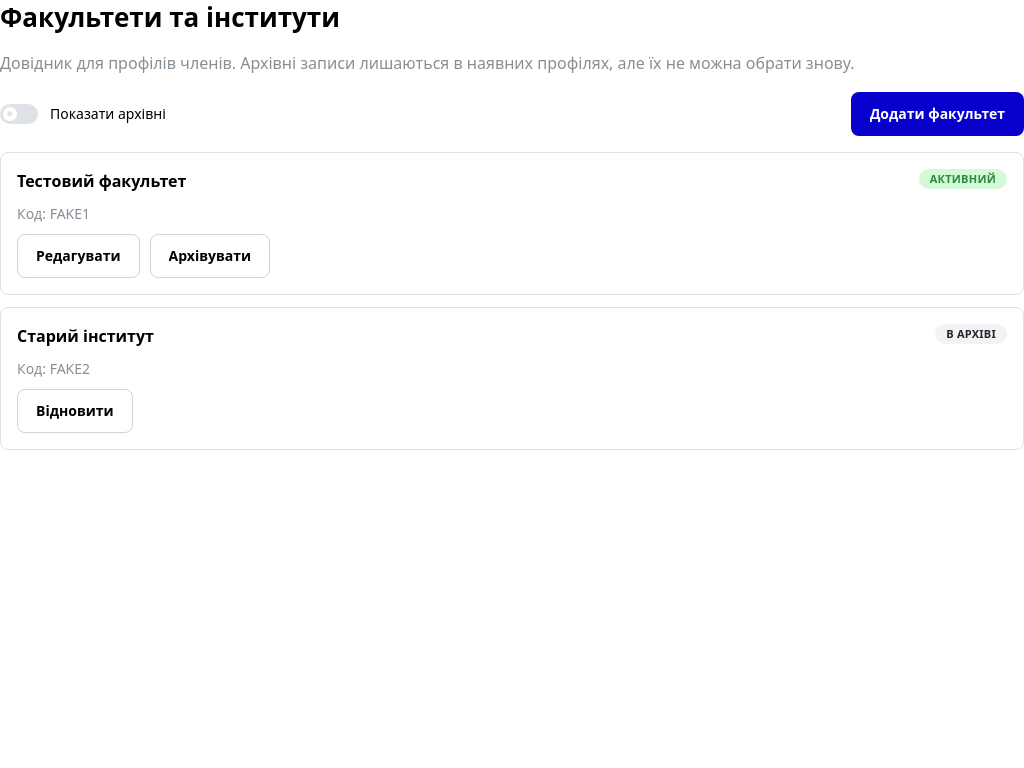
Test: create form › shows server validation errors per field
Click the button "Додати факультет". click: click(937, 114)
box: [851, 92, 1023, 136]
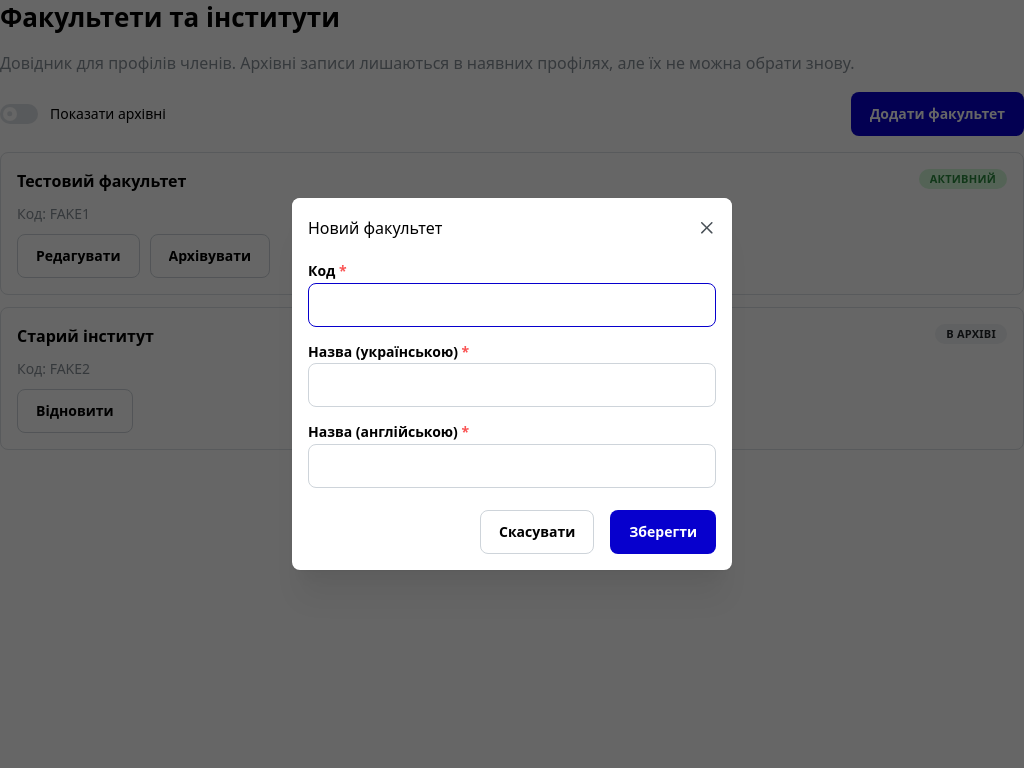
Type "NEW1" into the field labelled "Код *". click: (512, 305)
box: [308, 283, 716, 327]
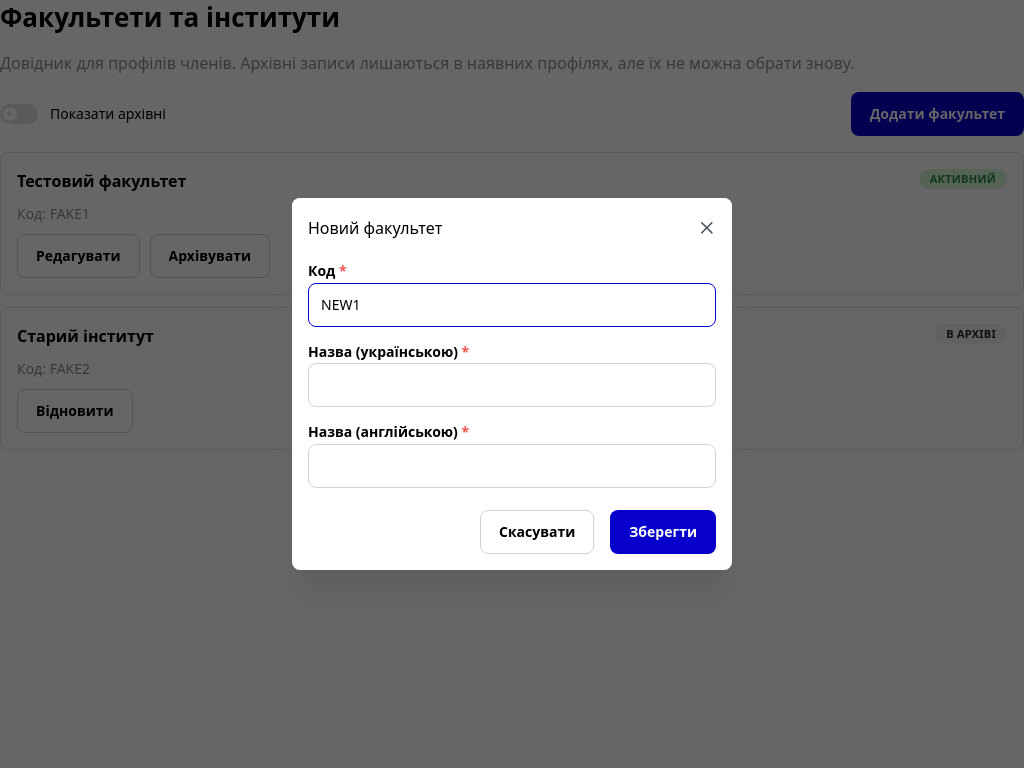
Type "Новий" into the field labelled "Назва (українською) *". click: (512, 385)
box: [308, 363, 716, 407]
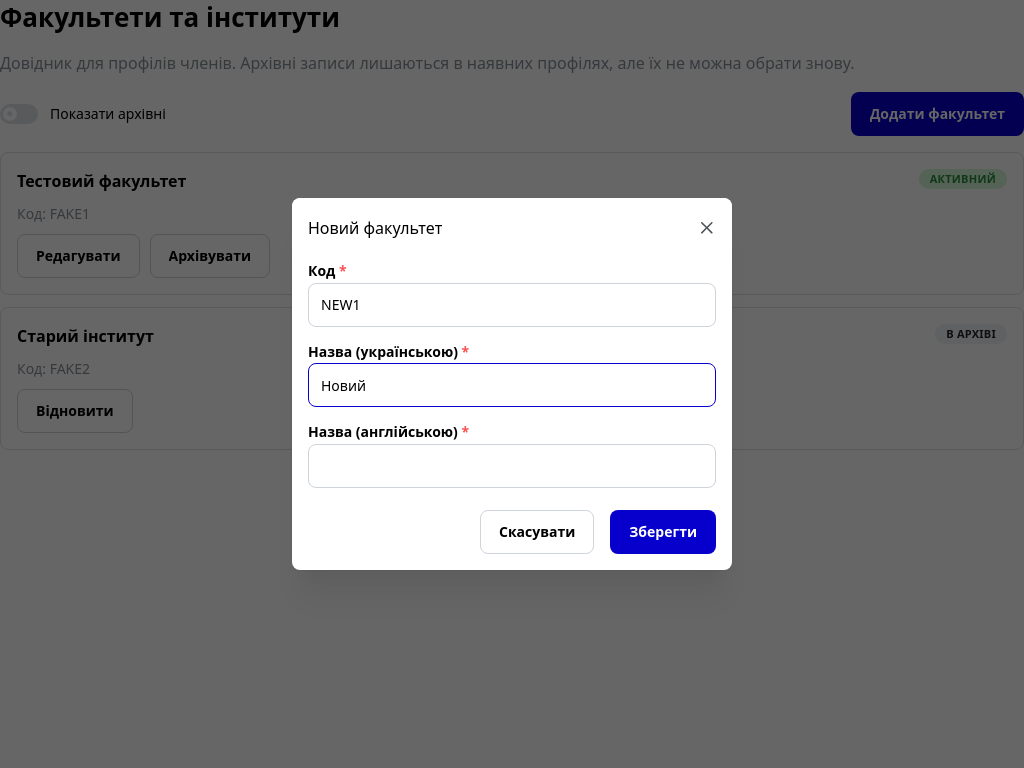
Type "New" into the field labelled "Назва (англійською) *". click: (512, 466)
box: [308, 444, 716, 488]
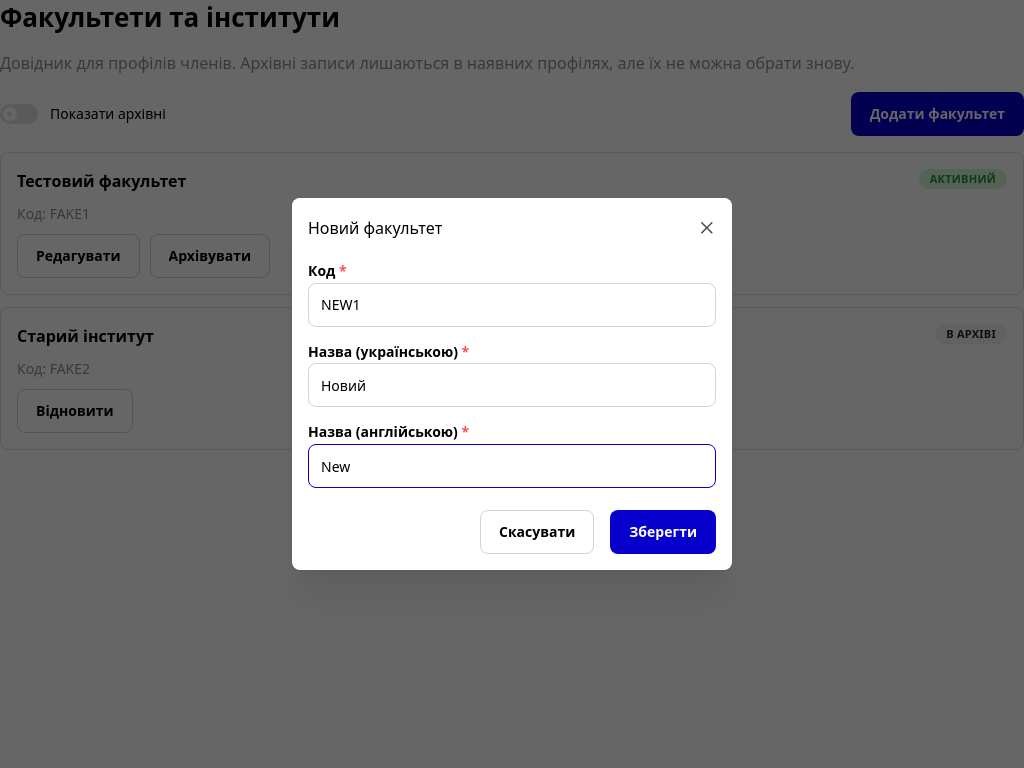
Click the button "Зберегти". click: click(663, 532)
box: [610, 510, 716, 554]
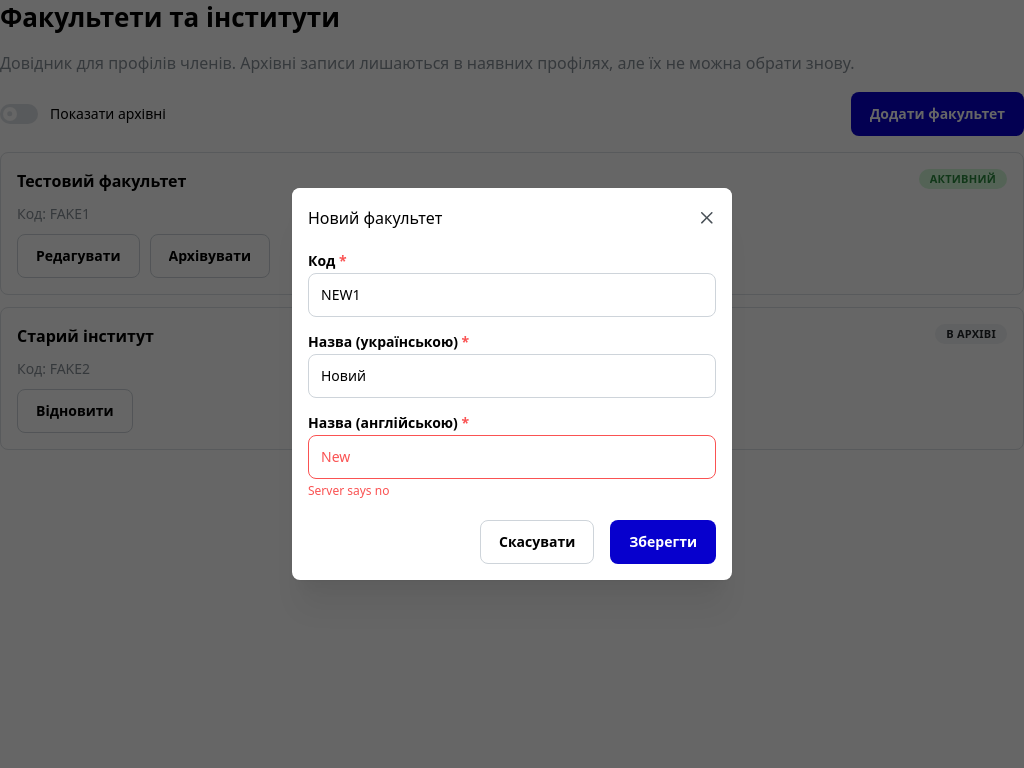
expect the text "Server says no" is shown: met, box [308, 482, 389, 498]
